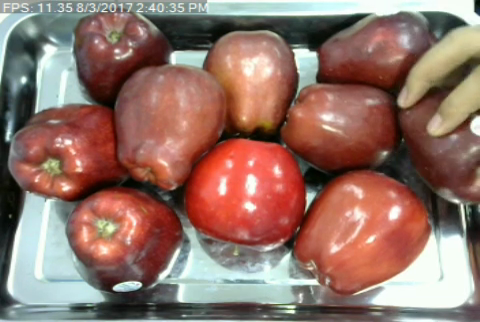Apple: (290, 167, 433, 298), (107, 61, 230, 192), (181, 134, 309, 252), (61, 186, 186, 296), (6, 102, 128, 203), (280, 79, 401, 178), (198, 26, 301, 139), (315, 7, 441, 98), (394, 83, 480, 207), (71, 9, 173, 108)
